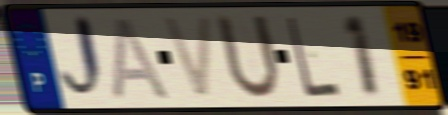1: (341, 12, 387, 101)
A: (111, 15, 173, 102)
J: (58, 12, 111, 106)
L: (283, 14, 344, 100)
U: (212, 11, 283, 104)
V: (159, 13, 216, 103)
